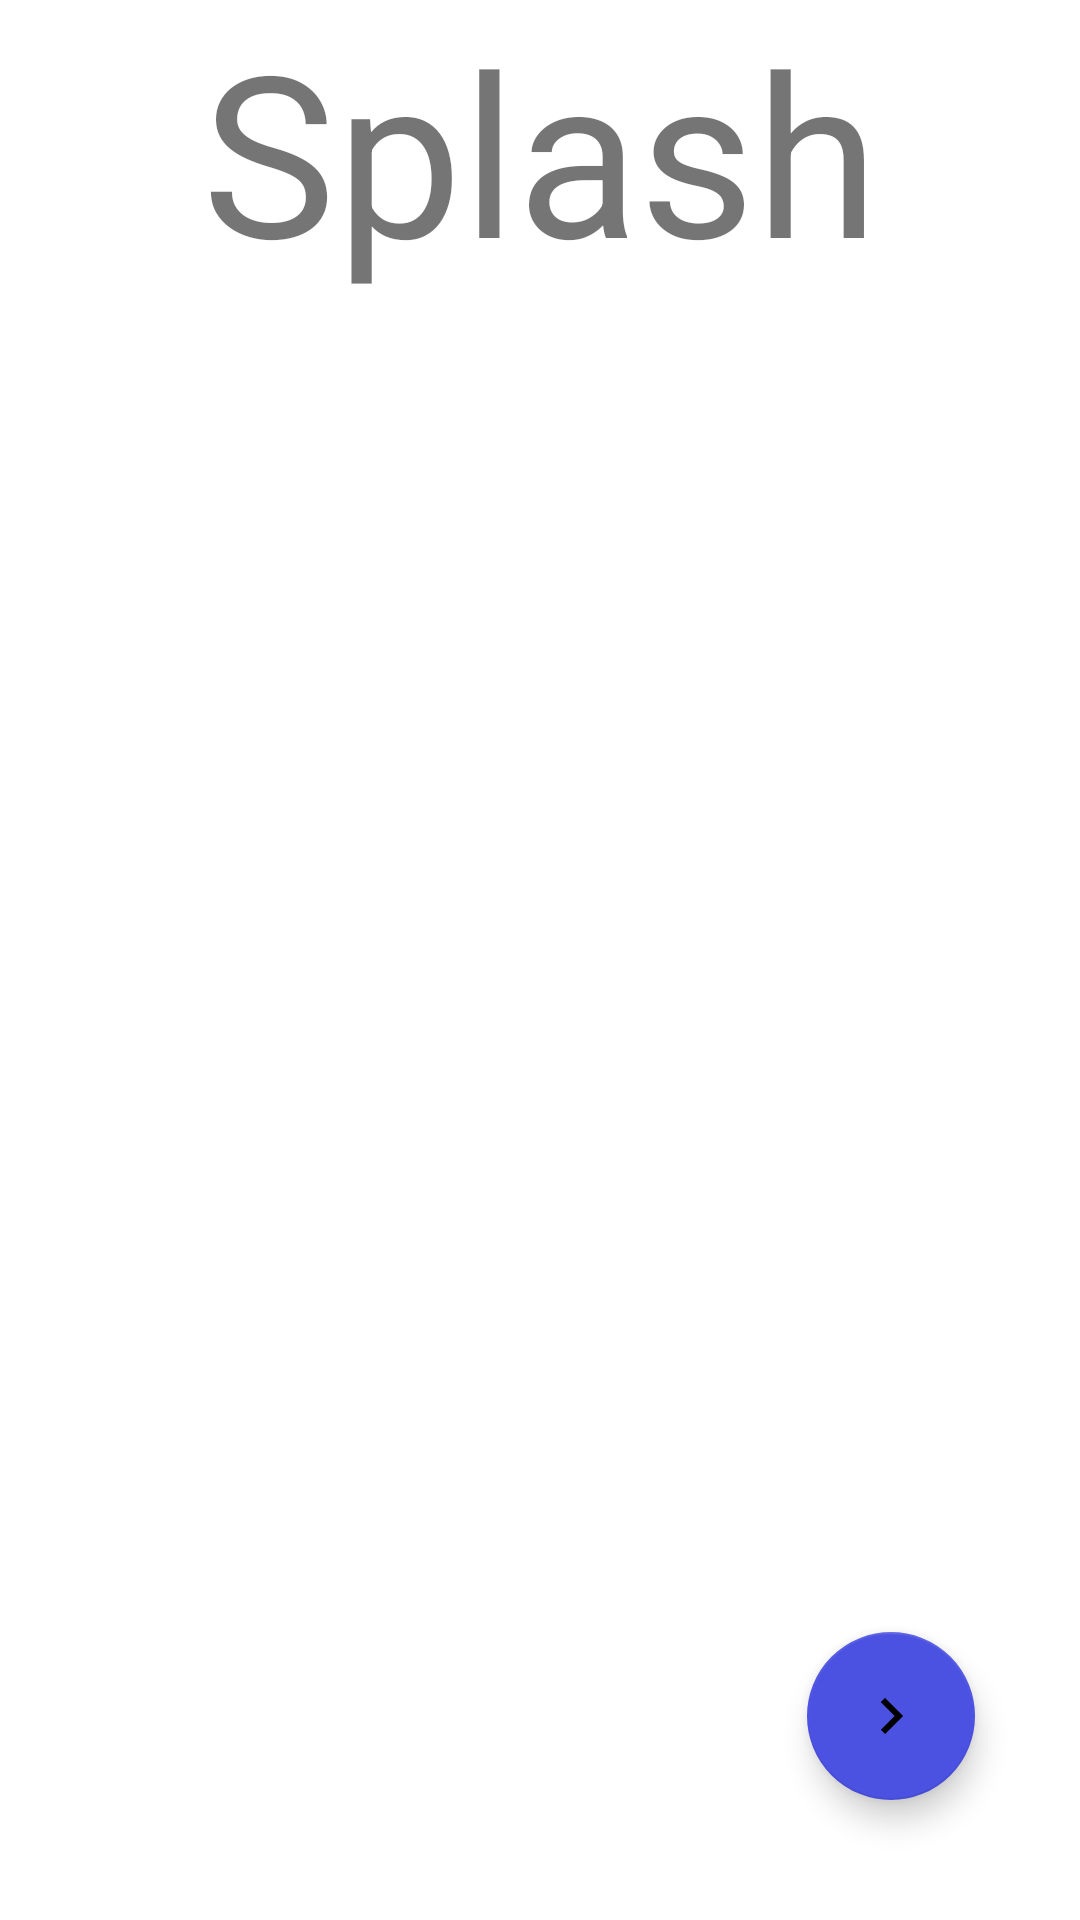

Named icons in this screenshot (1080px×1920px) and their centers, (x=x, y=y):
The button that navigates to the next screen: (x=891, y=1716)
